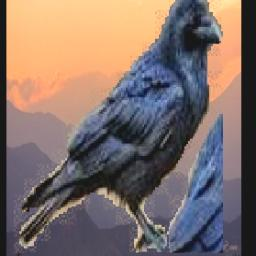Crow: (14, 0, 223, 253)
